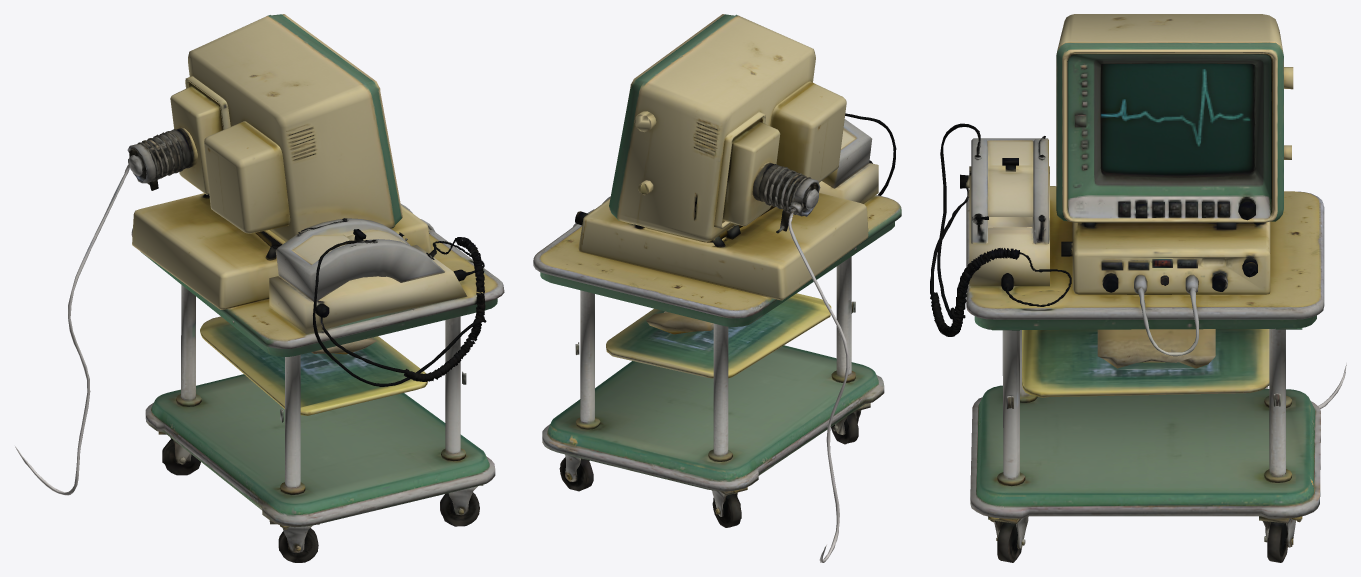
3 renders of one model, left to right at view 1: azimuth 30°, elevation 25°; view 2: azimuth 150°, elevation 25°; view 3: azimuth 270°, elevation 25°, orthographic. The views are drawn at different scales.
Visible parts, largest first — view 1: tripo_node_f4ca9e09-9961-43c5-9189-cff5e8f8a096; view 2: tripo_node_f4ca9e09-9961-43c5-9189-cff5e8f8a096; view 3: tripo_node_f4ca9e09-9961-43c5-9189-cff5e8f8a096.
Part boxes in pixels (bbox=[...]): tripo_node_f4ca9e09-9961-43c5-9189-cff5e8f8a096: bbox=[15, 14, 504, 562]; tripo_node_f4ca9e09-9961-43c5-9189-cff5e8f8a096: bbox=[533, 14, 901, 562]; tripo_node_f4ca9e09-9961-43c5-9189-cff5e8f8a096: bbox=[930, 14, 1346, 562].
Size of the model in its own units: 0.8066 by 0.998 by 0.7871.
Materials: 1 (1 with a texture image).
